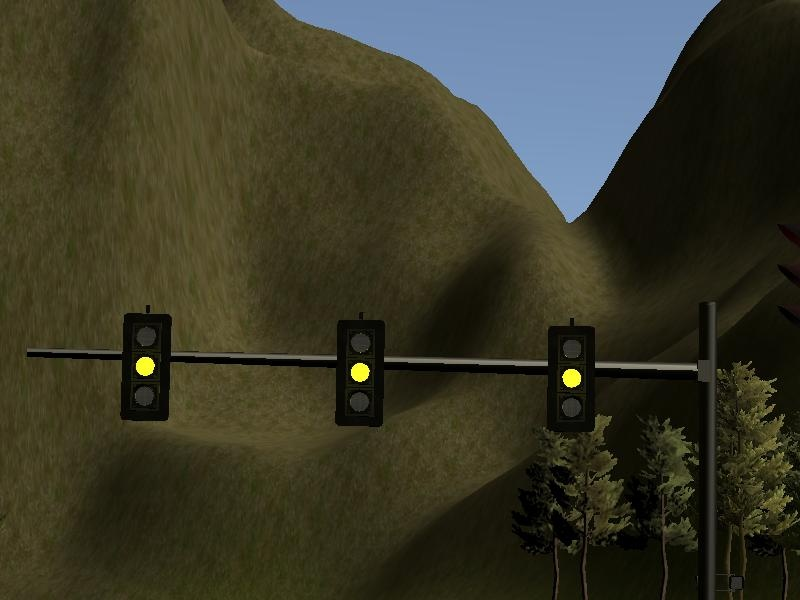YELLOW: (121, 312, 173, 423), (333, 317, 385, 428), (544, 324, 596, 435)
